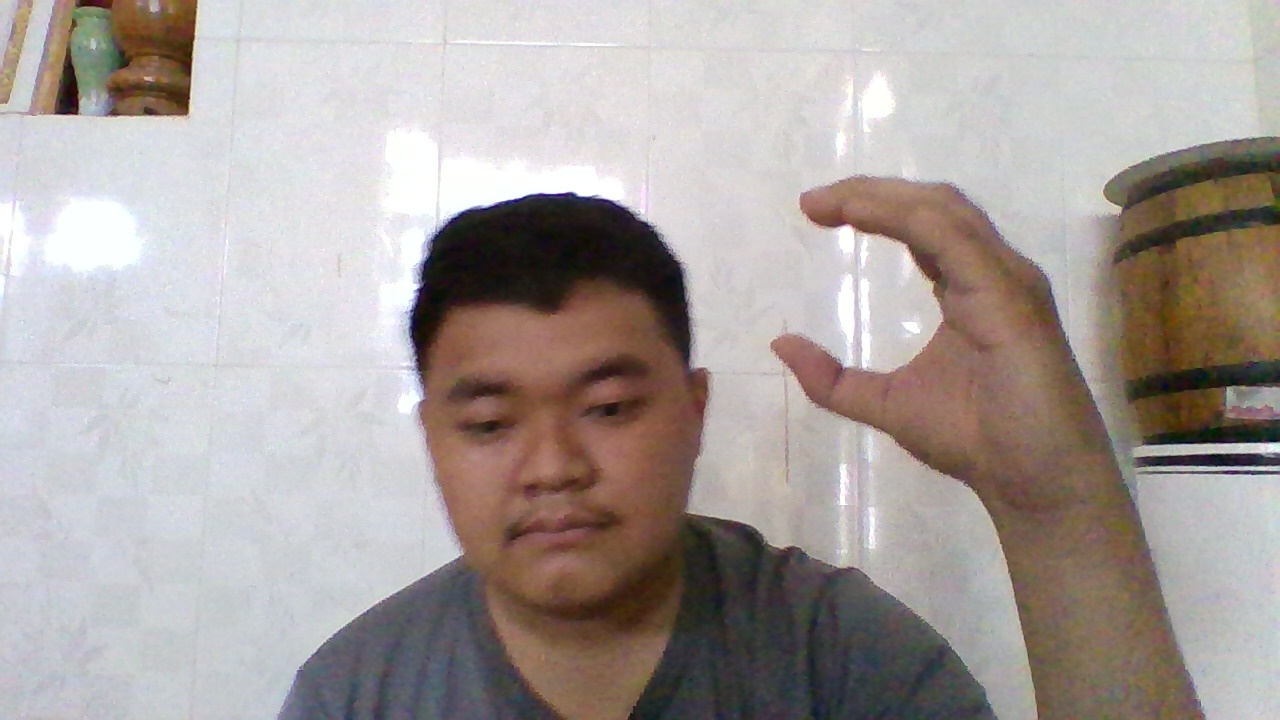C: (777, 175, 1070, 516)
